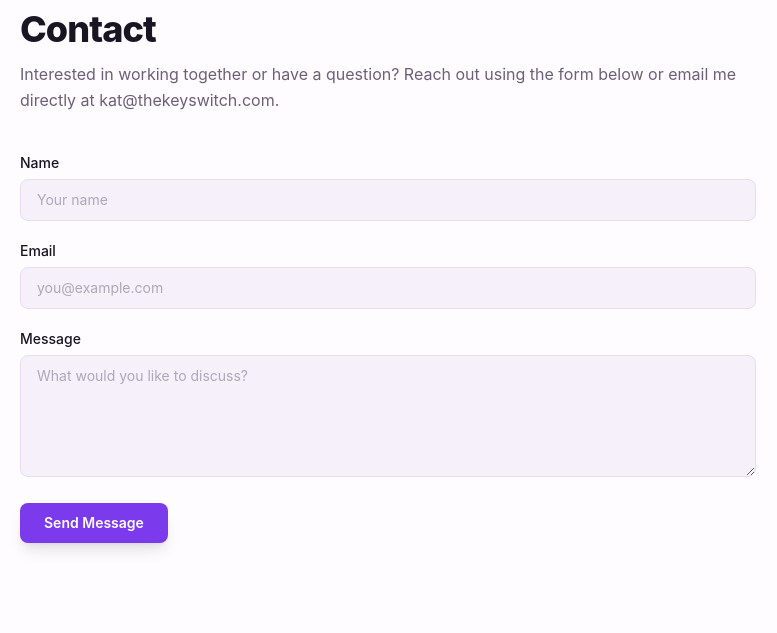
Test: ContactPage › shows error message on failed submit
Step 1. Type "Test User" into the field labelled "Name" → (388, 200), box [20,179,756,221]
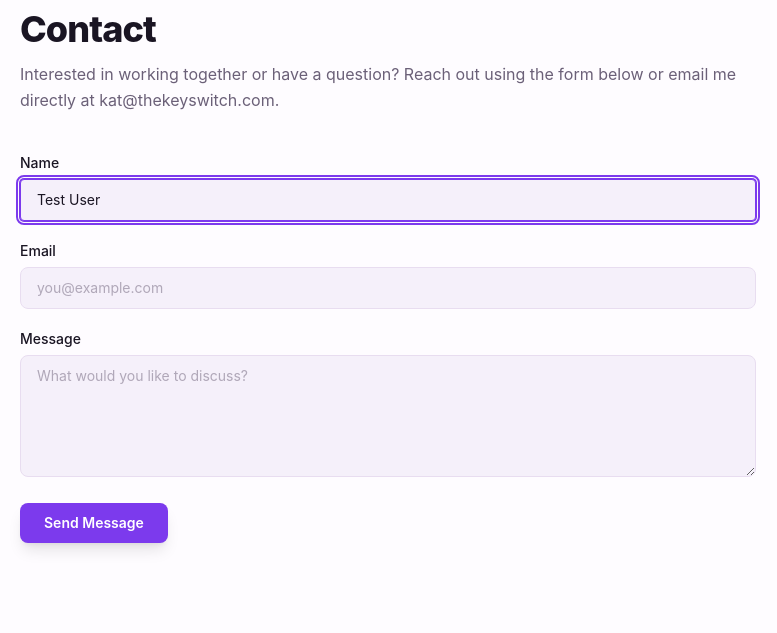
Step 2. Type "test@example.com" into the field labelled "Email" → (388, 288), box [20,267,756,309]
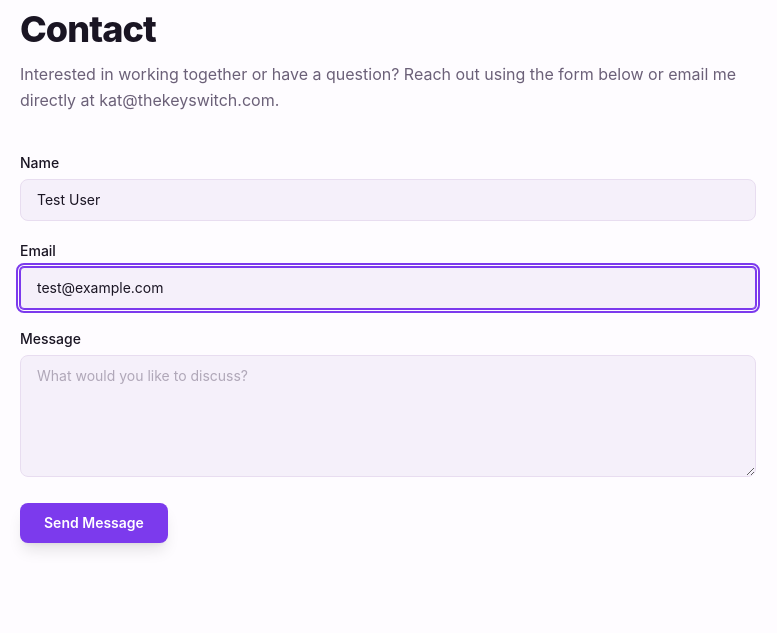
Step 3. Type "Hello" into the text box labelled "Message" → (388, 416), box [20,355,756,477]
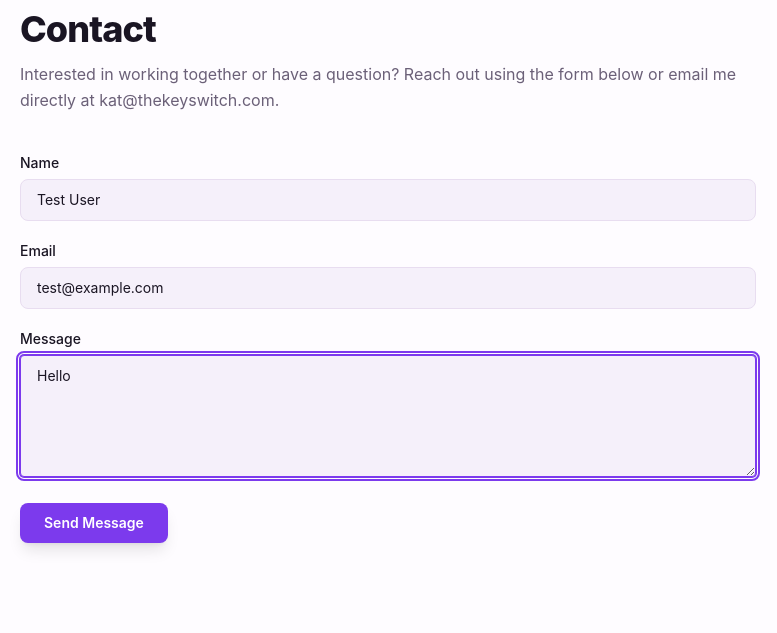
Step 4. Click the button "Send Message" → click(94, 523), box [20,503,168,543]
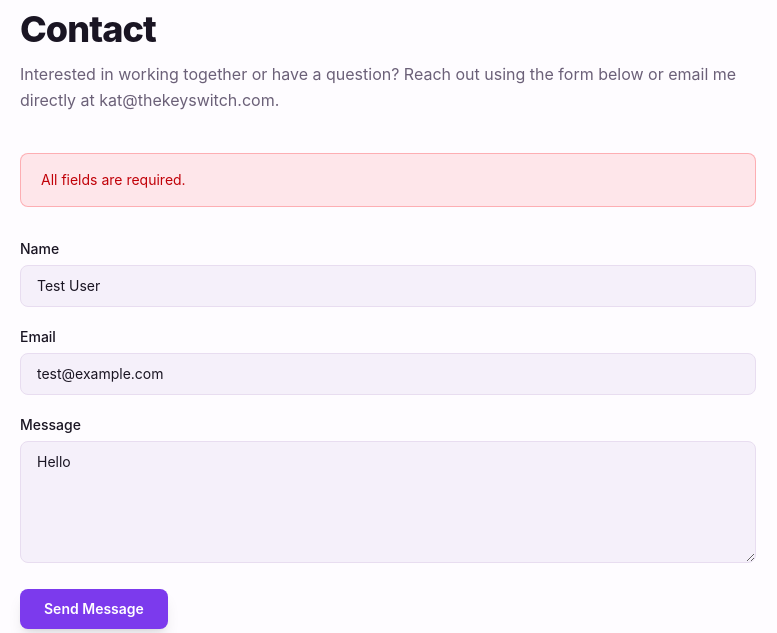
Expected: the text "All fields are required." is shown, [20,153,756,207]
